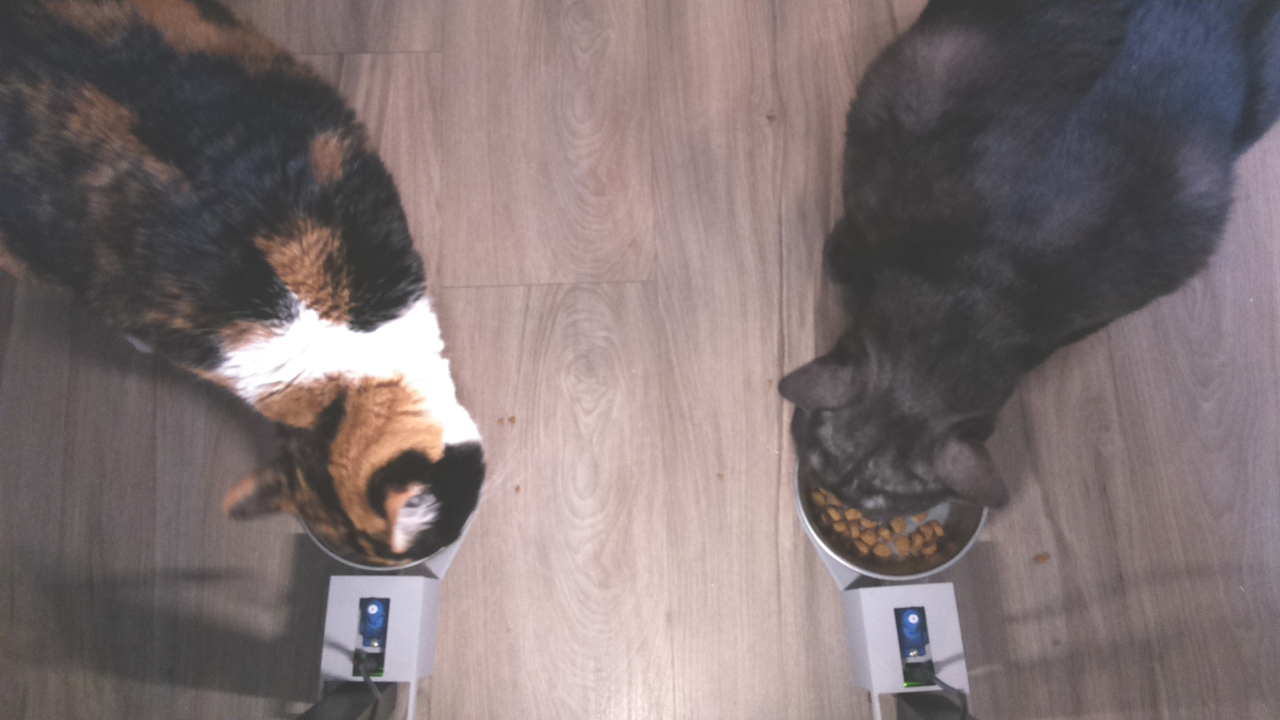bella_eating: (218, 296, 507, 575)
saki_eating: (773, 305, 1049, 591)
